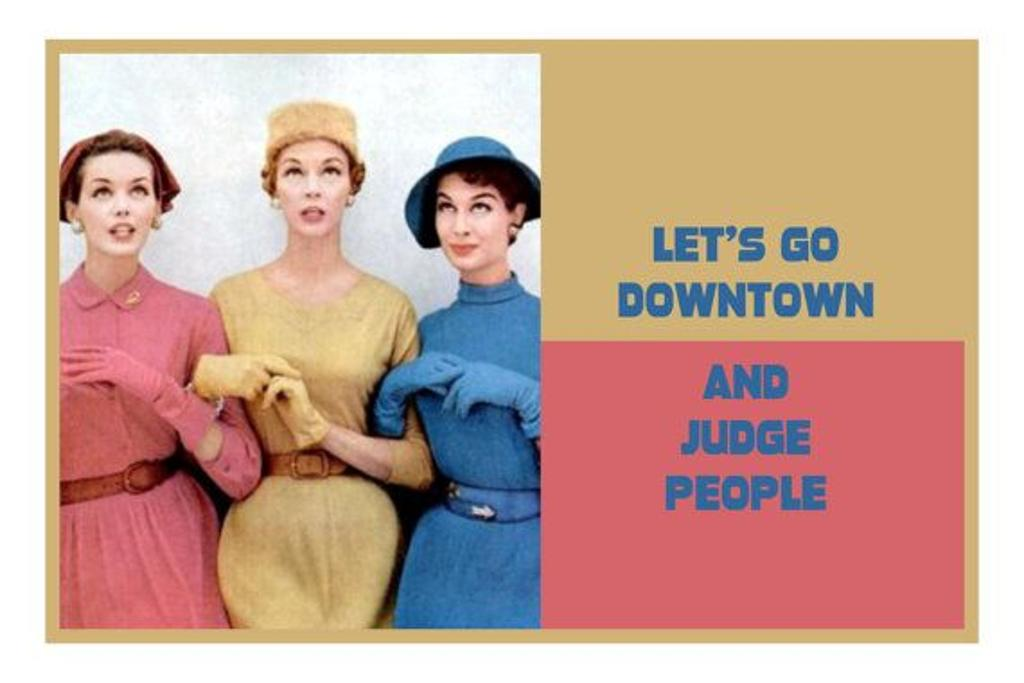face: (436, 168, 514, 272), (80, 154, 156, 254), (276, 140, 348, 238)
